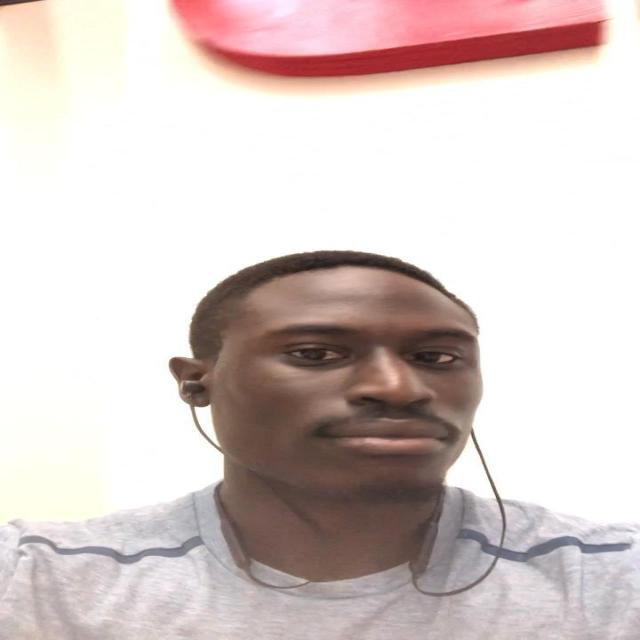face: (198, 269, 486, 505)
